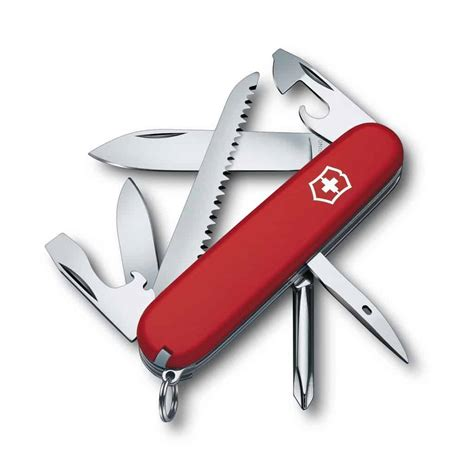knife: (152, 68, 264, 290), (87, 122, 323, 180), (42, 232, 167, 339), (308, 249, 411, 368), (272, 43, 383, 153), (114, 177, 161, 308), (285, 275, 318, 418)
